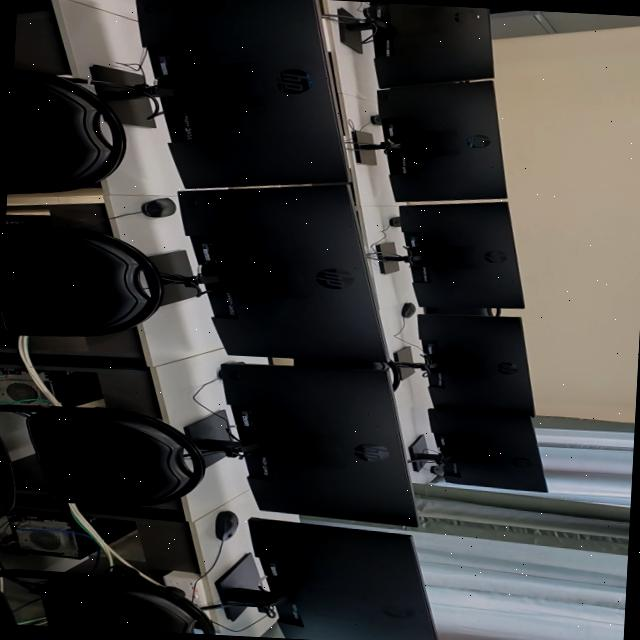Chair: (0, 404, 204, 517), (0, 227, 162, 336), (6, 70, 125, 194), (0, 567, 214, 635), (0, 591, 17, 625)
Cpu: (0, 510, 98, 560), (37, 371, 102, 406), (0, 369, 46, 404), (85, 517, 135, 543), (33, 588, 42, 593)
Monitor: (137, 0, 346, 189), (178, 185, 383, 361), (219, 364, 416, 525), (248, 518, 436, 640), (374, 81, 505, 202), (400, 203, 523, 308), (418, 314, 533, 415), (364, 2, 492, 88), (428, 409, 547, 491)
Mouse: (215, 511, 237, 541), (142, 198, 175, 217), (401, 303, 416, 318), (389, 217, 400, 227)
